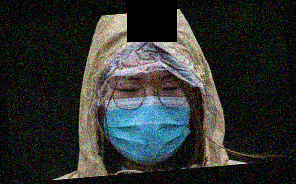with_mask: (101, 72, 192, 165)
